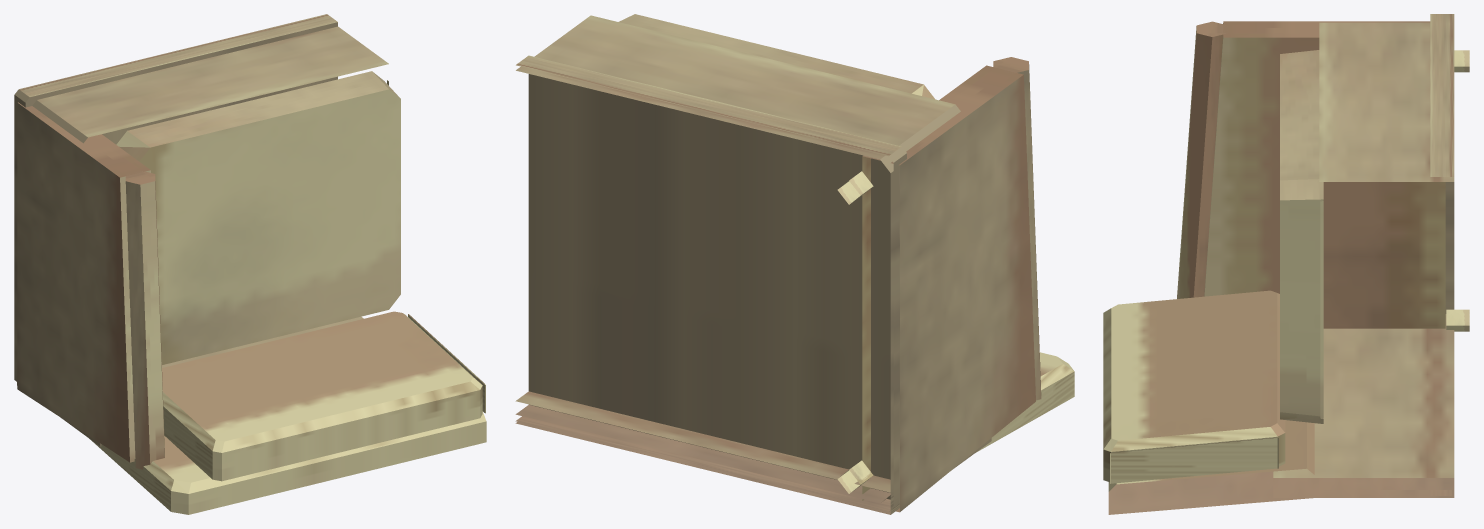
The model's file is pz_sofa_seating_indoor_02_white_lazy_0_0_fidelity_r1.obj.
3 views of the same model, side by side, from view 1: azimuth 30°, elevation 25°; view 2: azimuth 150°, elevation 25°; view 3: azimuth 270°, elevation 25° (orthographic). The views are drawn at different scales.
Visible parts, largest first — view 1: pz_sofa_seating_indoor_02_white_lazy_0_0__seat_0__seat, pz_sofa_seating_indoor_02_white_lazy_0_0__back_cushion_0__back, pz_sofa_seating_indoor_02_white_lazy_0_0__lazy_arm_panel_-1__arm, pz_sofa_seating_indoor_02_white_lazy_0_0__lower_body__body, pz_sofa_seating_indoor_02_white_lazy_0_0__rear_shell__back, pz_sofa_seating_indoor_02_white_lazy_0_0__sloping_rail_-1__arm, pz_sofa_seating_indoor_02_white_lazy_0_0__low_plinth__body, pz_sofa_seating_indoor_02_white_lazy_0_0__rear_body_bridge__body; view 2: pz_sofa_seating_indoor_02_white_lazy_0_0__low_plinth__body, pz_sofa_seating_indoor_02_white_lazy_0_0__lazy_arm_panel_-1__arm, pz_sofa_seating_indoor_02_white_lazy_0_0__lower_body__body, pz_sofa_seating_indoor_02_white_lazy_0_0__rear_body_bridge__body, pz_sofa_seating_indoor_02_white_lazy_0_0__seat_0__seat, pz_sofa_seating_indoor_02_white_lazy_0_0__sloping_rail_-1__arm, pz_sofa_seating_indoor_02_white_lazy_0_0__rear_shell__back, pz_sofa_seating_indoor_02_white_lazy_0_0__foot_-1_1__frame; view 3: pz_sofa_seating_indoor_02_white_lazy_0_0__lazy_arm_panel_-1__arm, pz_sofa_seating_indoor_02_white_lazy_0_0__back_cushion_0__back, pz_sofa_seating_indoor_02_white_lazy_0_0__rear_body_bridge__body, pz_sofa_seating_indoor_02_white_lazy_0_0__lower_body__body, pz_sofa_seating_indoor_02_white_lazy_0_0__seat_0__seat, pz_sofa_seating_indoor_02_white_lazy_0_0__sloping_rail_-1__arm, pz_sofa_seating_indoor_02_white_lazy_0_0__rear_shell__back, pz_sofa_seating_indoor_02_white_lazy_0_0__back_cushion_1__back, pz_sofa_seating_indoor_02_white_lazy_0_0__low_plinth__body, pz_sofa_seating_indoor_02_white_lazy_0_0__seat_1__seat, pz_sofa_seating_indoor_02_white_lazy_0_0__foot_-1_-1__frame.
Part boxes in pixels (x1,y1,x2,y2): pz_sofa_seating_indoor_02_white_lazy_0_0__seat_0__seat: [116, 71, 400, 364]; pz_sofa_seating_indoor_02_white_lazy_0_0__back_cushion_0__back: [162, 311, 482, 481]; pz_sofa_seating_indoor_02_white_lazy_0_0__lazy_arm_panel_-1__arm: [17, 102, 150, 462]; pz_sofa_seating_indoor_02_white_lazy_0_0__lower_body__body: [32, 26, 388, 143]; pz_sofa_seating_indoor_02_white_lazy_0_0__rear_shell__back: [90, 411, 486, 514]; pz_sofa_seating_indoor_02_white_lazy_0_0__sloping_rail_-1__arm: [125, 170, 164, 469]; pz_sofa_seating_indoor_02_white_lazy_0_0__low_plinth__body: [14, 14, 337, 381]; pz_sofa_seating_indoor_02_white_lazy_0_0__rear_body_bridge__body: [17, 316, 363, 446]; pz_sofa_seating_indoor_02_white_lazy_0_0__low_plinth__body: [515, 55, 906, 511]; pz_sofa_seating_indoor_02_white_lazy_0_0__lazy_arm_panel_-1__arm: [862, 65, 1035, 512]; pz_sofa_seating_indoor_02_white_lazy_0_0__lower_body__body: [515, 15, 960, 503]; pz_sofa_seating_indoor_02_white_lazy_0_0__rear_body_bridge__body: [515, 391, 991, 514]; pz_sofa_seating_indoor_02_white_lazy_0_0__seat_0__seat: [619, 14, 934, 99]; pz_sofa_seating_indoor_02_white_lazy_0_0__sloping_rail_-1__arm: [993, 57, 1041, 400]; pz_sofa_seating_indoor_02_white_lazy_0_0__rear_shell__back: [976, 352, 1074, 452]; pz_sofa_seating_indoor_02_white_lazy_0_0__foot_-1_1__frame: [837, 171, 873, 204]; pz_sofa_seating_indoor_02_white_lazy_0_0__lazy_arm_panel_-1__arm: [1204, 21, 1445, 328]; pz_sofa_seating_indoor_02_white_lazy_0_0__back_cushion_0__back: [1103, 290, 1285, 482]; pz_sofa_seating_indoor_02_white_lazy_0_0__rear_body_bridge__body: [1273, 314, 1454, 497]; pz_sofa_seating_indoor_02_white_lazy_0_0__lower_body__body: [1319, 22, 1454, 489]; pz_sofa_seating_indoor_02_white_lazy_0_0__seat_0__seat: [1280, 50, 1323, 423]; pz_sofa_seating_indoor_02_white_lazy_0_0__sloping_rail_-1__arm: [1177, 21, 1228, 298]; pz_sofa_seating_indoor_02_white_lazy_0_0__rear_shell__back: [1108, 420, 1314, 514]; pz_sofa_seating_indoor_02_white_lazy_0_0__back_cushion_1__back: [1110, 437, 1278, 483]; pz_sofa_seating_indoor_02_white_lazy_0_0__low_plinth__body: [1430, 14, 1454, 495]; pz_sofa_seating_indoor_02_white_lazy_0_0__seat_1__seat: [1320, 201, 1323, 418]; pz_sofa_seating_indoor_02_white_lazy_0_0__foot_-1_-1__frame: [1446, 309, 1469, 331].
Size of the model in its own units: 0.8715 by 0.8274 by 0.8127.
Materials: 1 (1 with a texture image).
